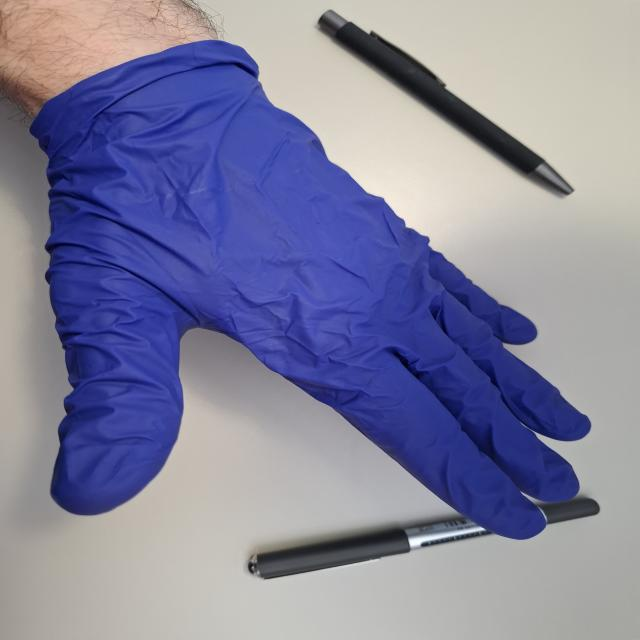glove_on: (27, 34, 594, 543)
